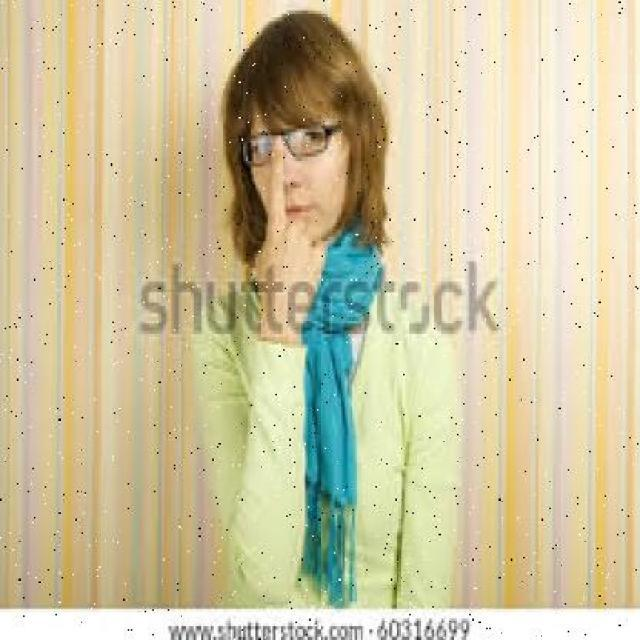mask: (225, 111, 342, 180)
